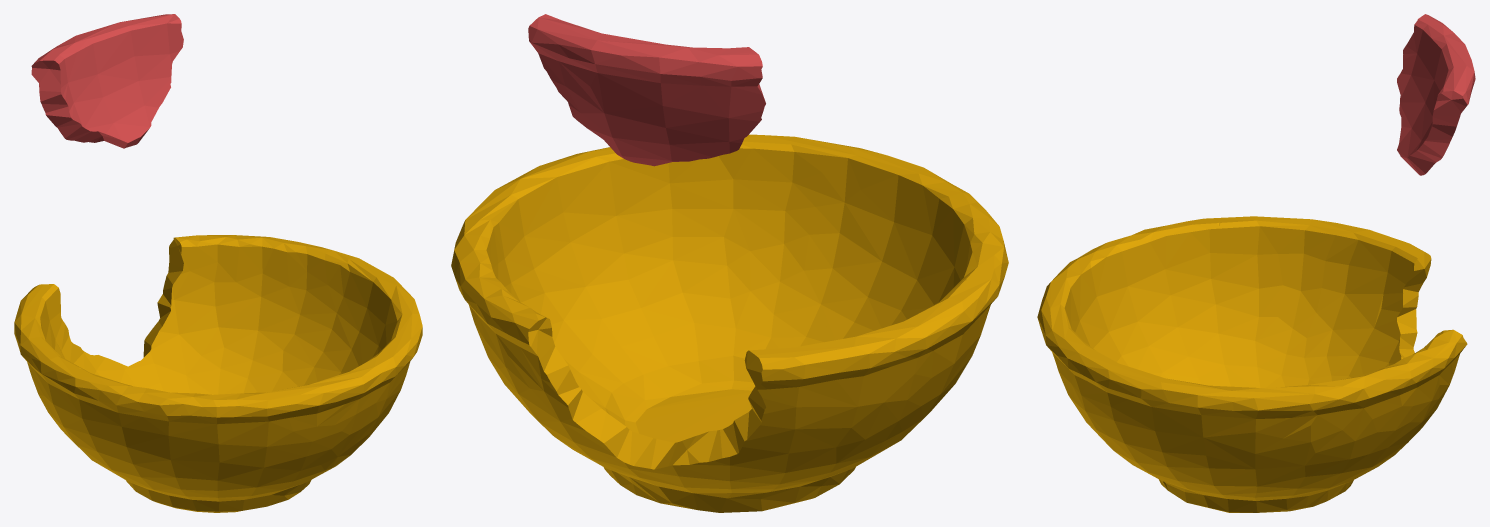
File: fractured_51_2pcs_transformed.glb
3 renders of one model, left to right at view 1: azimuth 30°, elevation 25°; view 2: azimuth 150°, elevation 25°; view 3: azimuth 270°, elevation 25°, orthographic. The views are drawn at different scales.
Parts seen in each view (by area): view 1: piece_0.obj, piece_1.obj; view 2: piece_0.obj, piece_1.obj; view 3: piece_0.obj, piece_1.obj.
Part boxes in pixels (x1=…): piece_0.obj: x1=14, y1=235, x2=422, y2=512; piece_1.obj: x1=31, y1=14, x2=183, y2=148; piece_0.obj: x1=451, y1=134, x2=1008, y2=512; piece_1.obj: x1=528, y1=14, x2=765, y2=166; piece_0.obj: x1=1037, y1=216, x2=1467, y2=512; piece_1.obj: x1=1397, y1=14, x2=1475, y2=175.
Bounding box in the file's own units: 1 × 1.02 × 0.9975.
